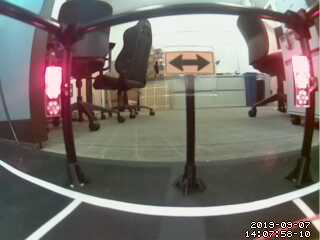Left_Right_sign: (164, 50, 221, 75)
Traffic_light_red: (294, 55, 317, 106), (47, 62, 62, 118)
